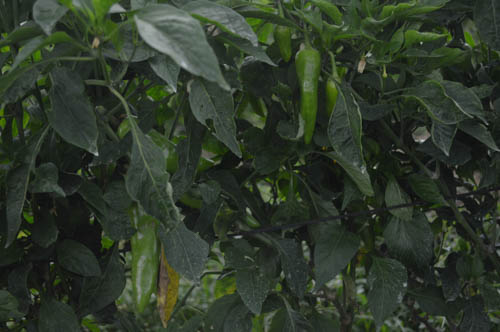ChiliPepper: (127, 210, 159, 312), (297, 46, 320, 139)
